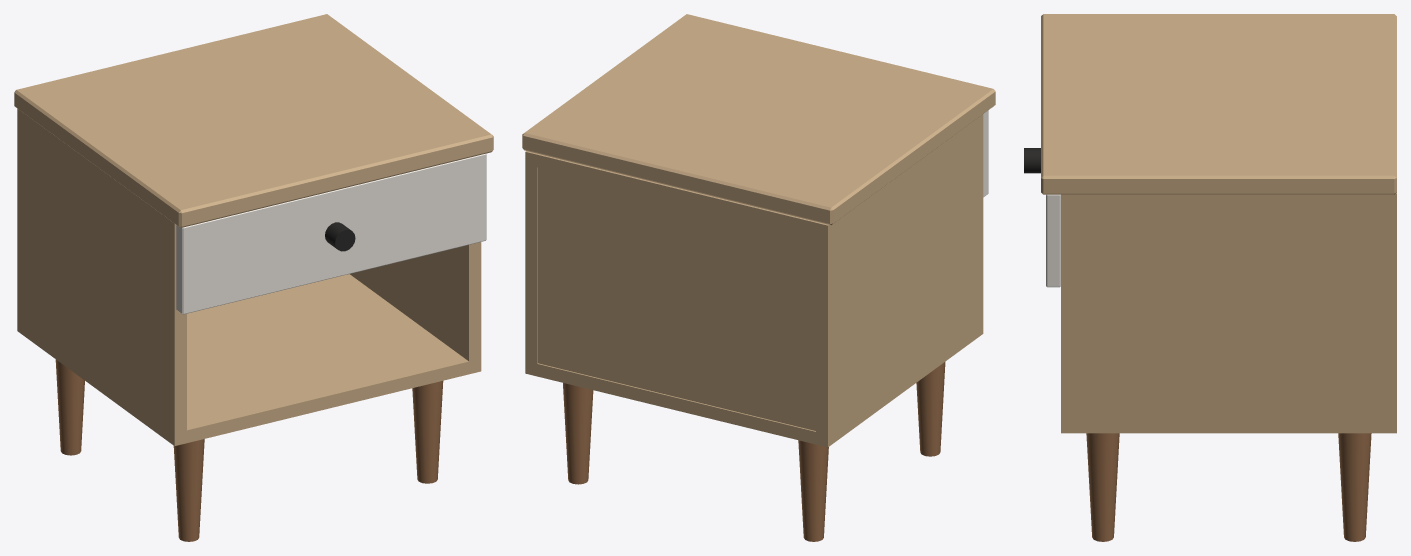
Rendered from 43_szafka_nocna_45.glb.
3 views of the same model, side by side, from view 1: azimuth 30°, elevation 25°; view 2: azimuth 150°, elevation 25°; view 3: azimuth 270°, elevation 25° (orthographic). The views are drawn at different scales.
Parts seen in each view (by area): view 1: Korpus, Wierzch, Front_szuflada_1, Nogi, Uchwyty; view 2: Korpus, Wierzch, Nogi; view 3: Korpus, Wierzch, Nogi, Front_szuflada_1.
Part boxes in pixels (x1=…): Korpus: x1=17, y1=108, x2=481, y2=446; Wierzch: x1=14, y1=14, x2=493, y2=227; Front_szuflada_1: x1=176, y1=153, x2=486, y2=314; Nogi: x1=55, y1=359, x2=443, y2=541; Uchwyty: x1=325, y1=222, x2=355, y2=251; Korpus: x1=525, y1=114, x2=983, y2=447; Wierzch: x1=522, y1=14, x2=995, y2=224; Nogi: x1=563, y1=362, x2=945, y2=541; Korpus: x1=1061, y1=193, x2=1396, y2=433; Wierzch: x1=1041, y1=14, x2=1396, y2=194; Nogi: x1=1086, y1=433, x2=1371, y2=541; Front_szuflada_1: x1=1046, y1=194, x2=1060, y2=287.
Size of the model in its own units: 0.462 by 0.5 by 0.444.
